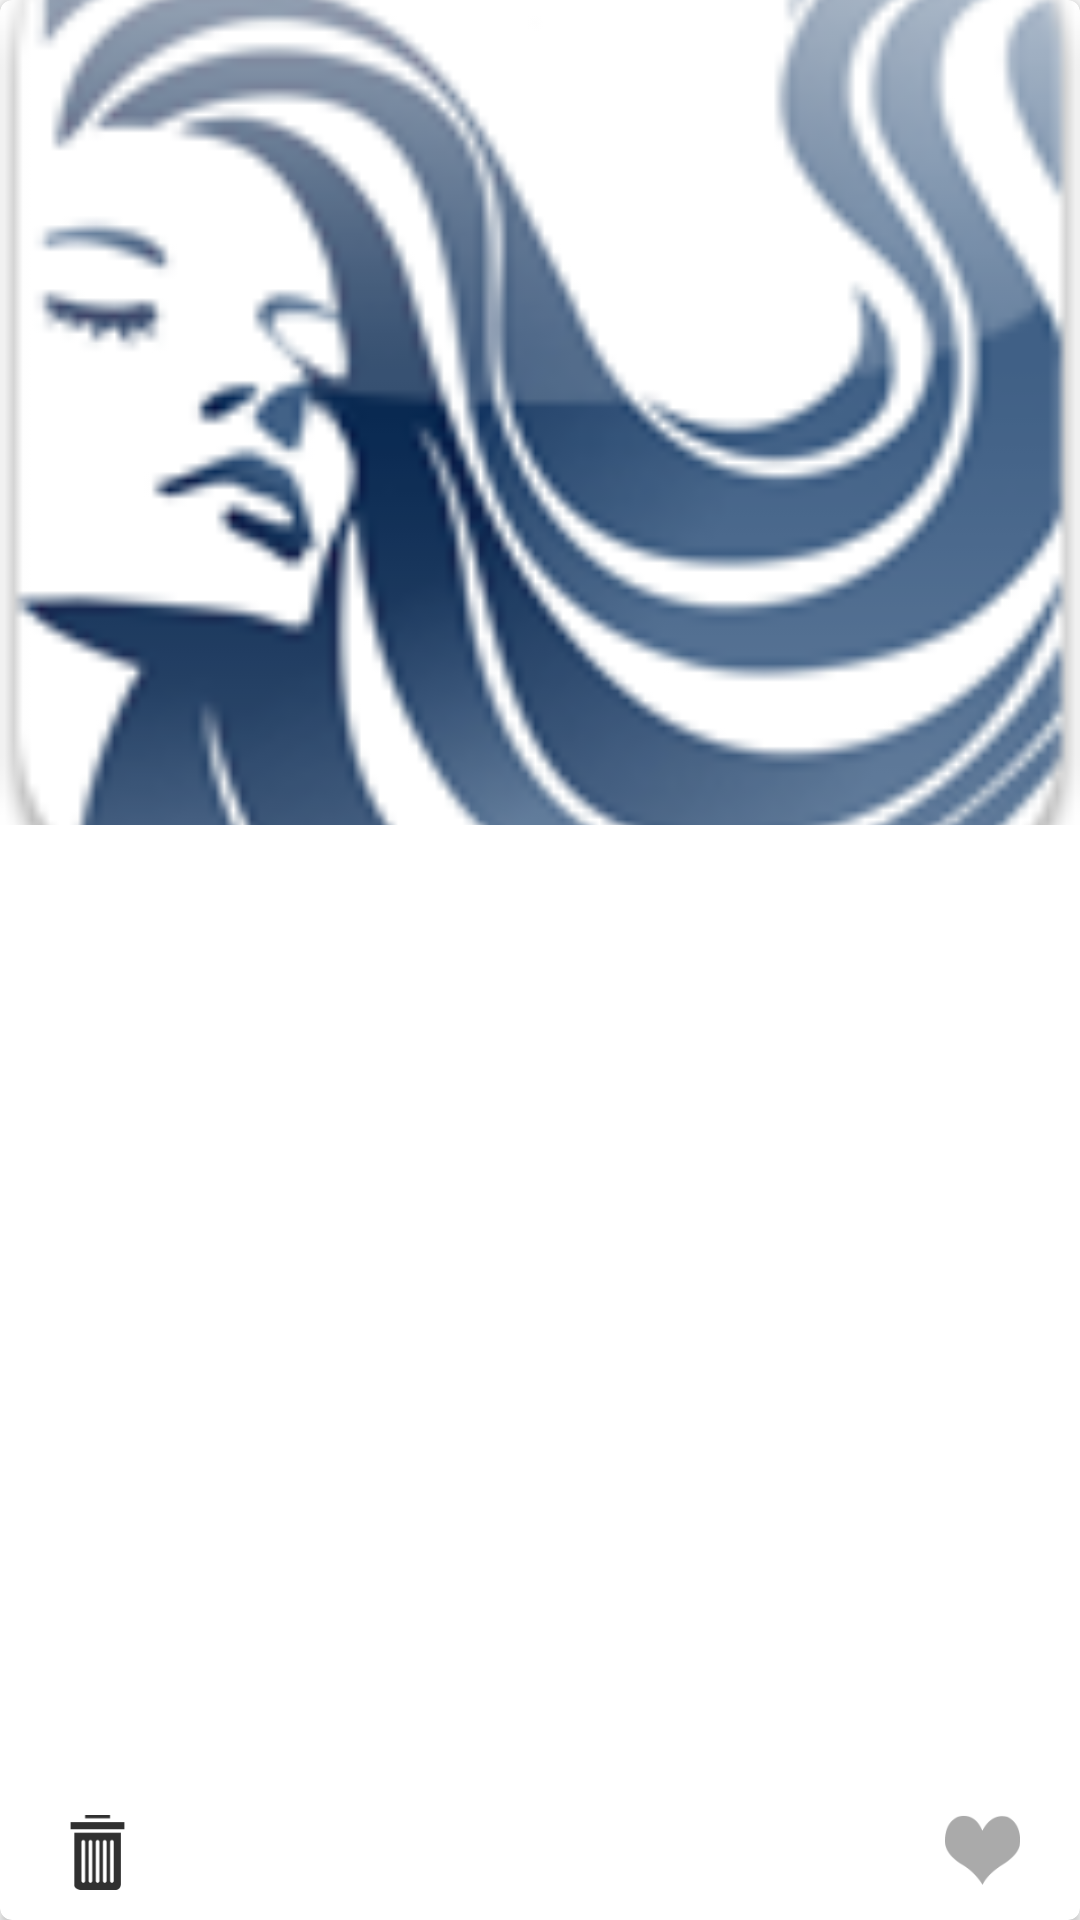

Icons on this 1080px×1920px Android screen, each with its box as (x1, y1, x2, y2):
删除: (70, 1815, 125, 1890)
收藏: (945, 1816, 1020, 1885)
